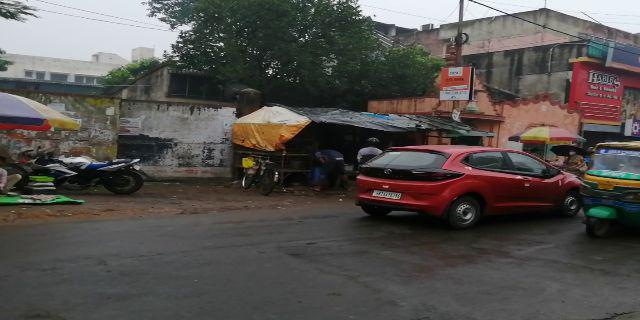Autorickshaw: (578, 144, 640, 238)
Car: (358, 148, 570, 227)
